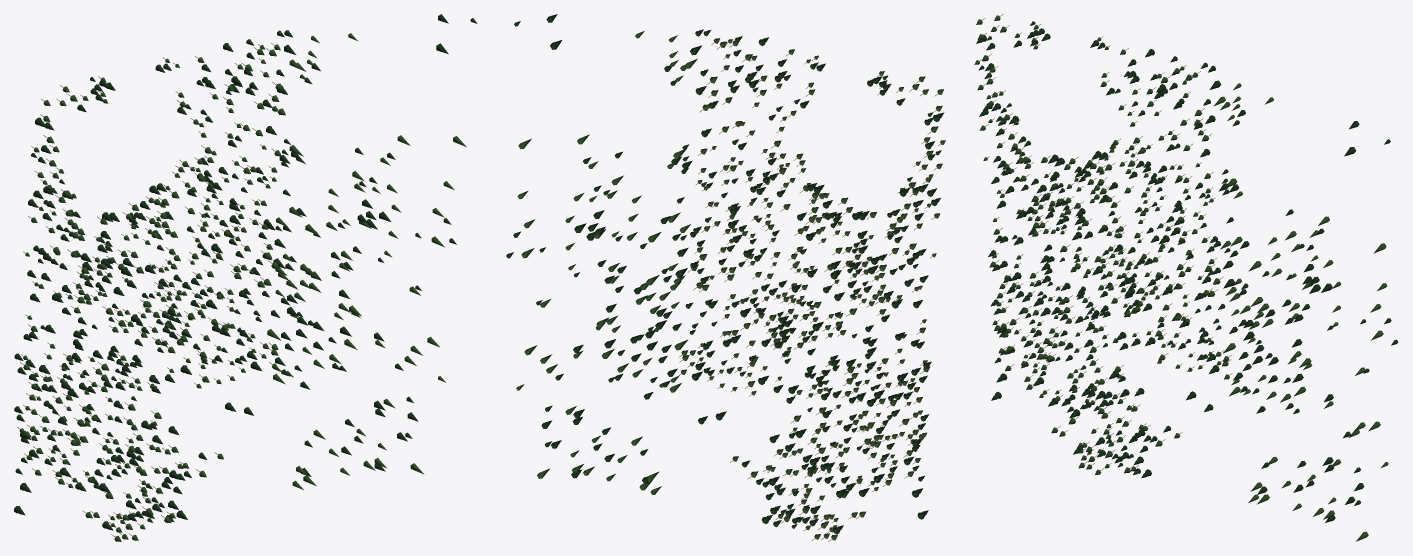
Rendered from forest_14.obj.
3 views of the same model, side by side, from view 1: azimuth 30°, elevation 25°; view 2: azimuth 150°, elevation 25°; view 3: azimuth 330°, elevation 25° (orthographic). The views are drawn at different scales.
Size of the model in its own units: 524 by 555 by 64.35.
